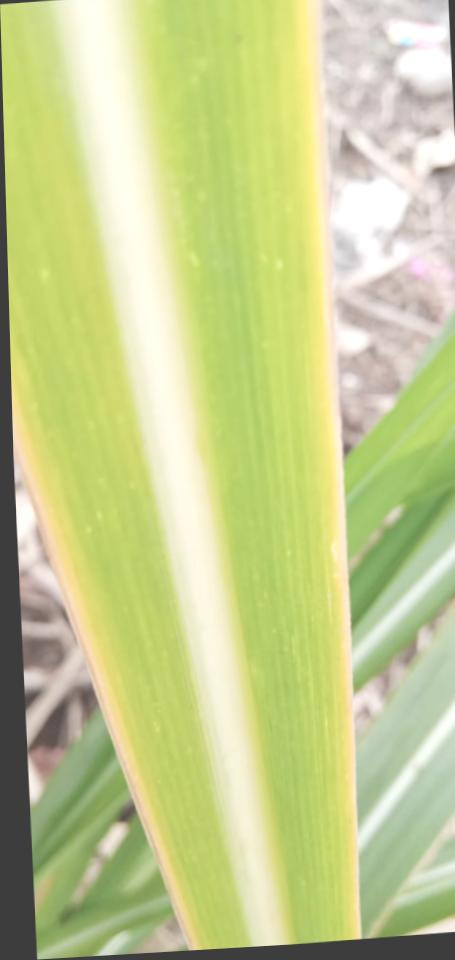Yellow: (12, 392, 201, 950), (297, 0, 361, 938)
